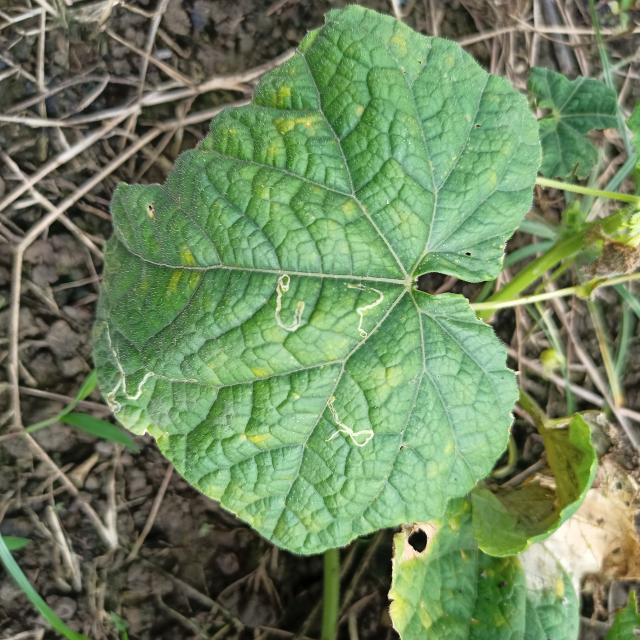disease_cucumber: (270, 86, 322, 136), (170, 245, 202, 295), (243, 426, 277, 449)
